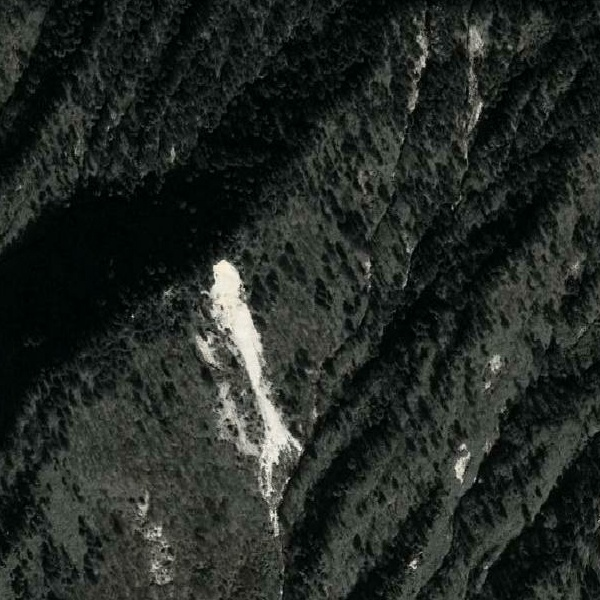slope: (183, 254, 310, 539)
